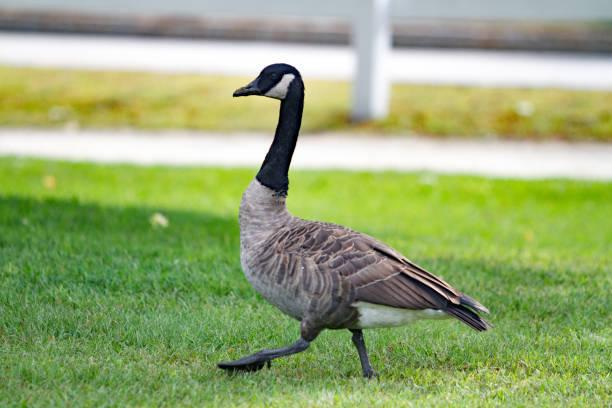Canadian-Goose: (217, 63, 492, 385)
